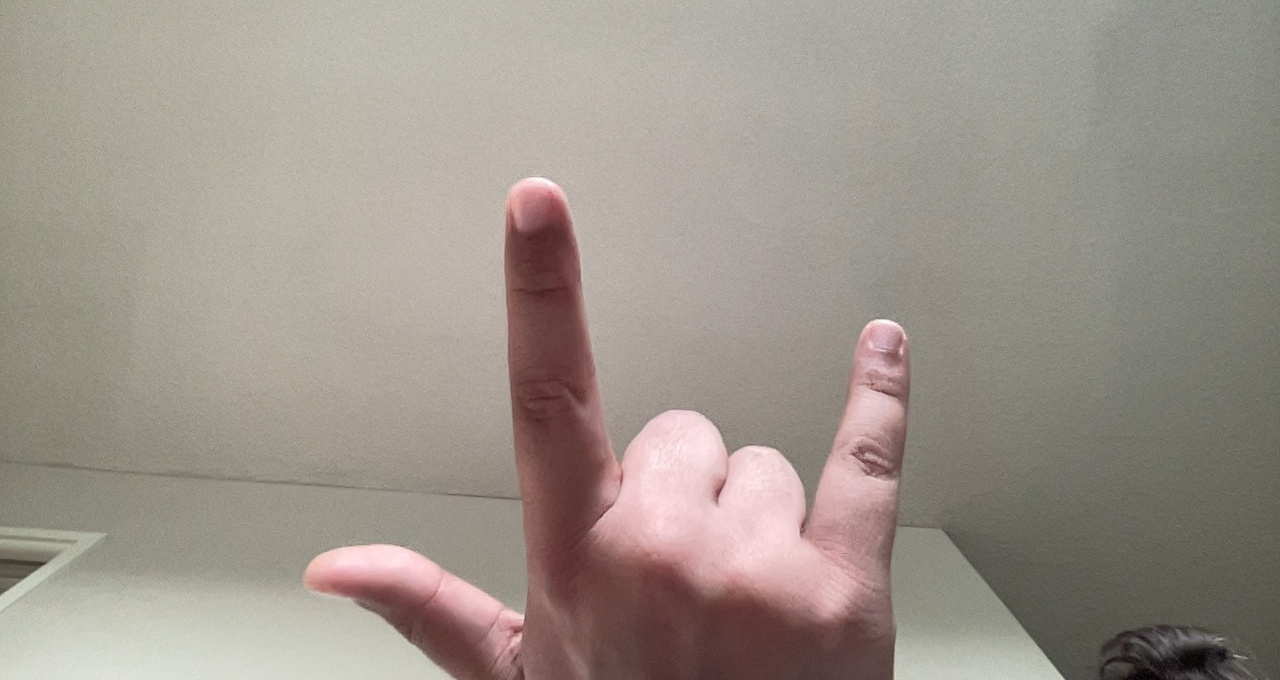rockon sign: (292, 158, 922, 680)
